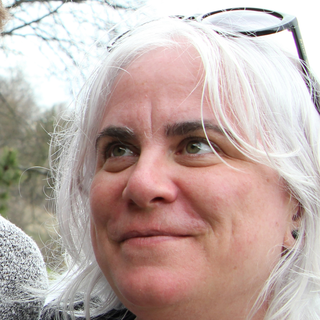eye: (176, 133, 223, 159), (99, 135, 140, 164)
